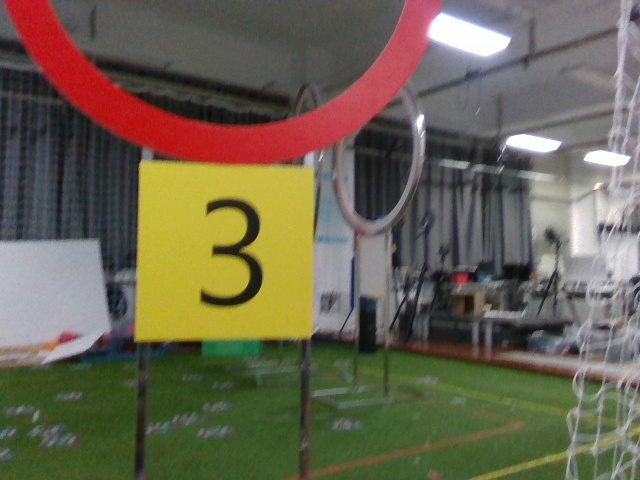target: (143, 162, 310, 344)
